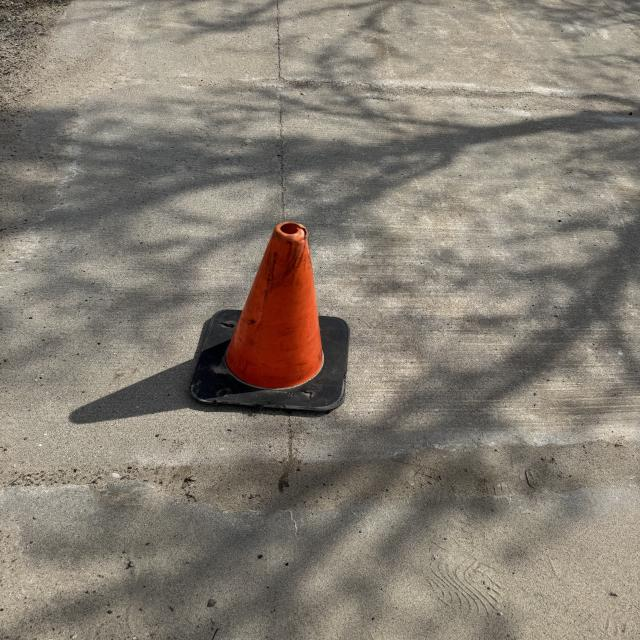Traffic Cone: (190, 219, 354, 413)
